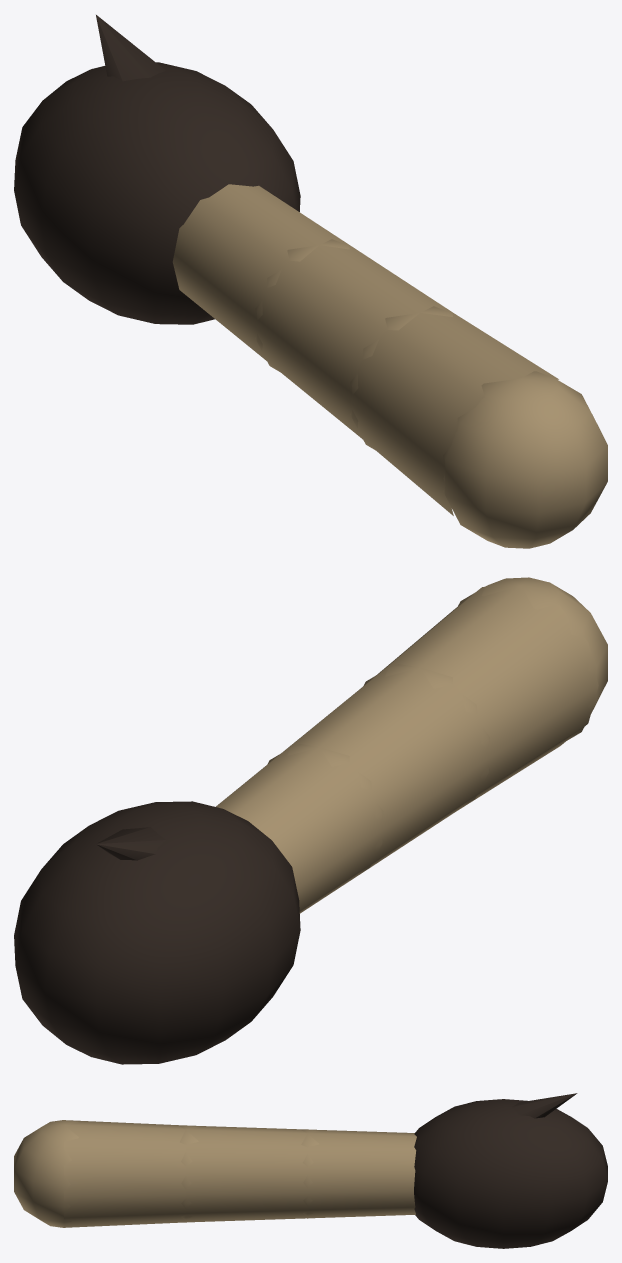
File: hyena_tail.glb
3 renders of one model, top to bottom at view 1: azimuth 30°, elevation 25°; view 2: azimuth 150°, elevation 25°; view 3: azimuth 270°, elevation 25°, orthographic. The views are drawn at different scales.
Parts seen in each view (by area): view 1: hyena_tail_seg_04, hyena_tail, hyena_tail_seg_02, hyena_tail_seg_03; view 2: hyena_tail_seg_04, hyena_tail, hyena_tail_seg_02, hyena_tail_seg_03; view 3: hyena_tail_seg_04, hyena_tail, hyena_tail_seg_02, hyena_tail_seg_03.
Boxes of the visible parts, x1,y1,x2,y2 form: hyena_tail_seg_04: (14, 15, 300, 324); hyena_tail: (350, 306, 607, 548); hyena_tail_seg_02: (255, 245, 454, 442); hyena_tail_seg_03: (172, 184, 350, 371); hyena_tail_seg_04: (14, 801, 300, 1064); hyena_tail: (363, 577, 607, 810); hyena_tail_seg_02: (269, 667, 489, 878); hyena_tail_seg_03: (216, 747, 383, 913); hyena_tail_seg_04: (414, 1093, 607, 1248); hyena_tail: (14, 1120, 196, 1227); hyena_tail_seg_02: (186, 1125, 318, 1222); hyena_tail_seg_03: (307, 1129, 416, 1218).
Bounding box in the file's own units: 0.12 × 0.1212 × 0.4393.
